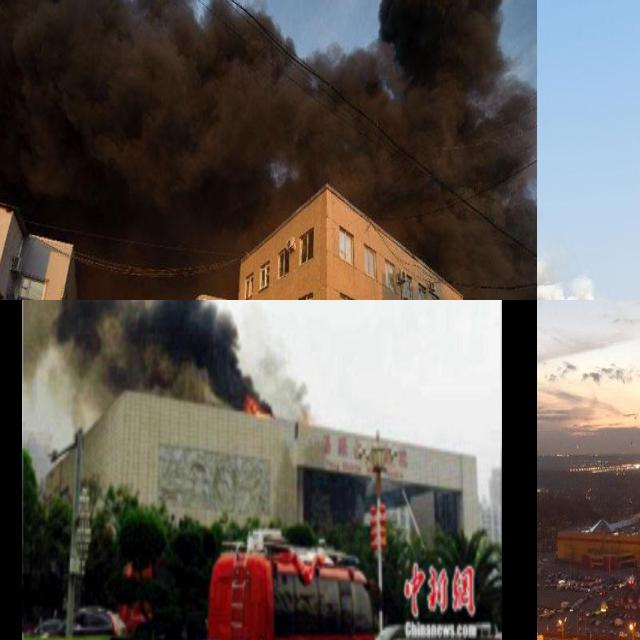fire: (246, 394, 267, 419)
smoke: (22, 300, 304, 415), (537, 0, 640, 300), (387, 81, 536, 228), (67, 0, 164, 212), (45, 0, 123, 205), (119, 0, 193, 214), (204, 0, 281, 204), (293, 39, 384, 187), (374, 0, 515, 87), (430, 195, 537, 285), (0, 0, 22, 185)
